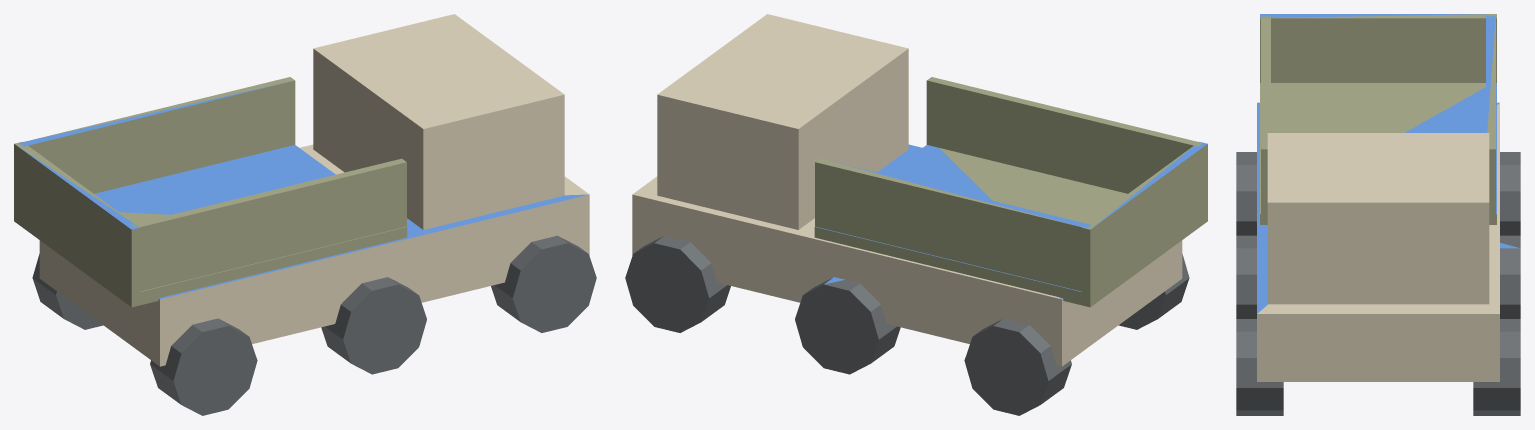
Rendered from meridian_harvester.glb.
3 views of the same model, side by side, from view 1: azimuth 30°, elevation 25°; view 2: azimuth 150°, elevation 25°; view 3: azimuth 270°, elevation 25° (orthographic).
Parts seen in each view (by area): view 1: hull, bucket; view 2: hull, bucket; view 3: hull, bucket.
Boxes of the visible parts, box(x1,y1,x2,y2) form: hull: box(32, 14, 596, 415); bucket: box(14, 77, 407, 307); hull: box(625, 14, 1189, 415); bucket: box(814, 77, 1207, 307); hull: box(1236, 102, 1520, 415); bucket: box(1260, 14, 1496, 224).
Size of the model in its own units: 6.46 by 2.95 by 3.46.
